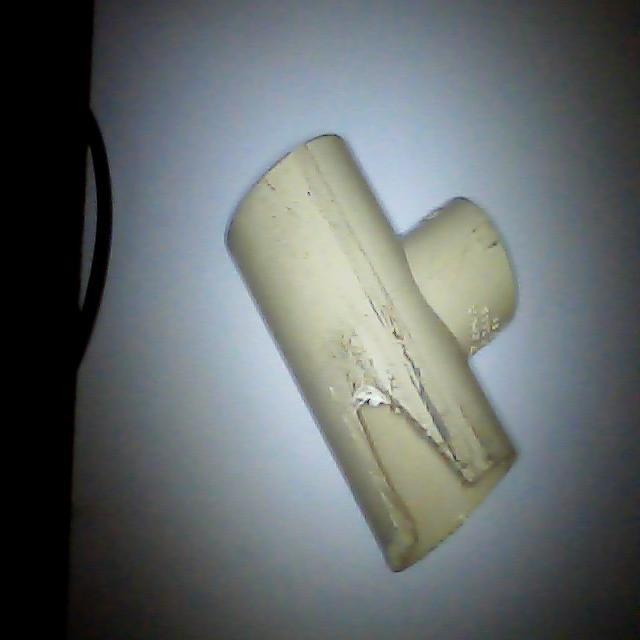Defective: (354, 386, 468, 534)
T Joint: (224, 134, 519, 575)
